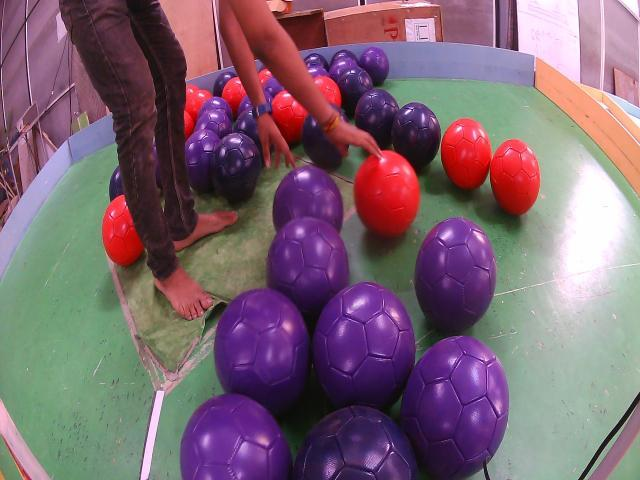jambhalya: (401, 335, 509, 478), (312, 282, 415, 408), (214, 288, 310, 413), (180, 393, 292, 480), (415, 217, 496, 333), (266, 217, 350, 317), (272, 165, 344, 232), (185, 128, 220, 193), (359, 47, 389, 85), (195, 110, 232, 140), (198, 97, 232, 122), (329, 57, 358, 83), (264, 77, 284, 98), (238, 95, 252, 116), (309, 65, 328, 78)
kaalyya: (292, 407, 418, 480), (210, 133, 261, 202), (391, 102, 441, 170), (355, 88, 399, 150), (301, 113, 342, 170), (338, 65, 372, 115), (234, 108, 262, 159), (212, 72, 238, 97), (109, 167, 124, 201), (304, 53, 329, 72), (330, 50, 359, 66)
